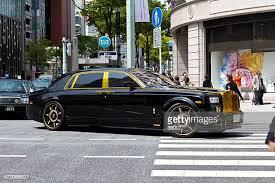Normal Automobiles: (27, 68, 242, 136), (0, 79, 34, 115), (32, 79, 50, 90)
